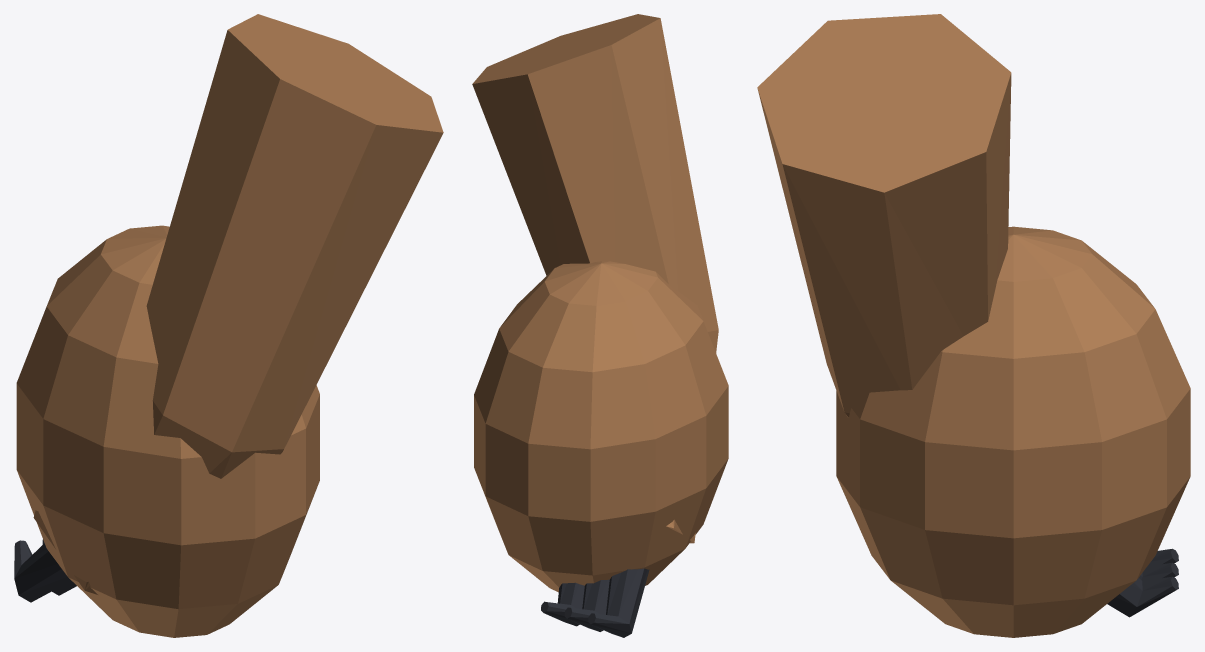
Rendered from gorehulk_e_arm_-1.obj.
3 views of the same model, side by side, from view 1: azimuth 30°, elevation 25°; view 2: azimuth 150°, elevation 25°; view 3: azimuth 270°, elevation 25° (orthographic). The views are drawn at different scales.
Parts seen in each view (by area): view 1: gorehulk_e_arm_-1; view 2: gorehulk_e_arm_-1; view 3: gorehulk_e_arm_-1.
Boxes of the visible parts, box(x1,y1,x2,y2) form: gorehulk_e_arm_-1: box(14, 14, 443, 637); gorehulk_e_arm_-1: box(472, 14, 728, 637); gorehulk_e_arm_-1: box(757, 14, 1190, 637).
Size of the model in its own units: 0.4725 by 0.8576 by 0.5367.
